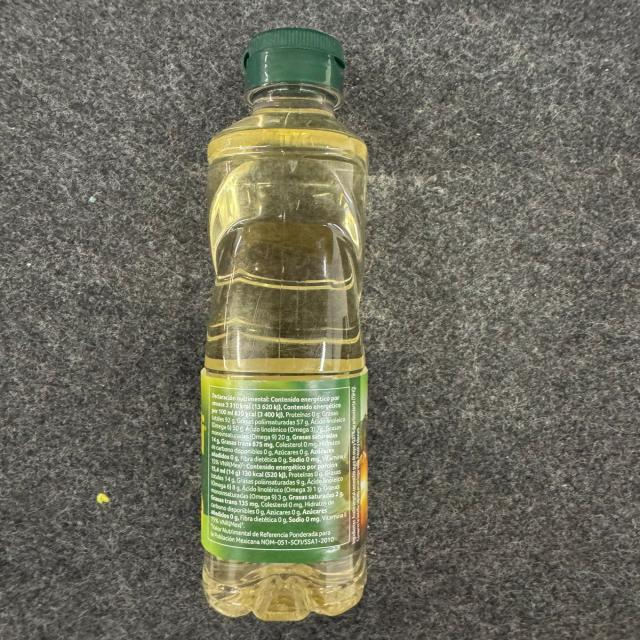ACEITE NUTRIOLI 400 ML: (195, 24, 405, 628)
